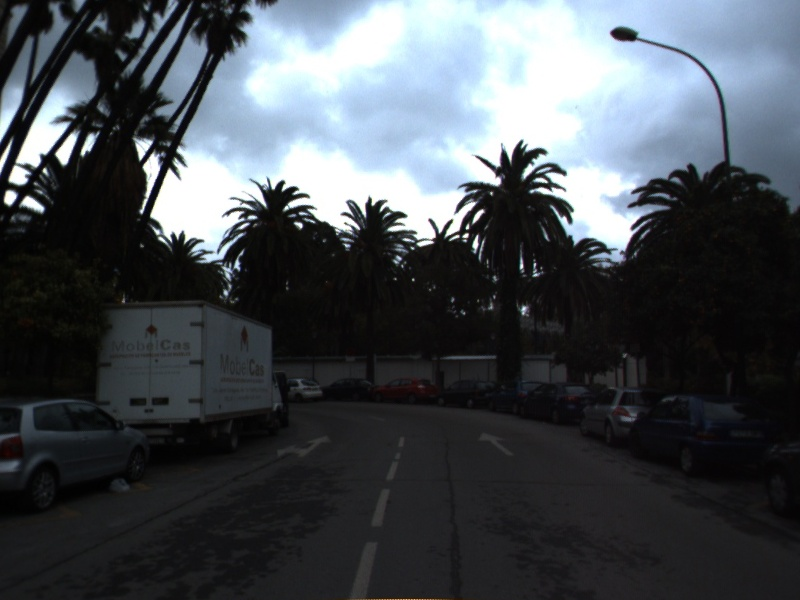STRAIGHT: (476, 430, 517, 458)
STRAIGHT_LEFT: (275, 433, 334, 460)
